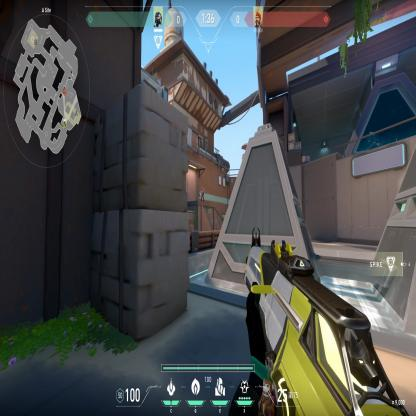enemy: (200, 185, 205, 202)
